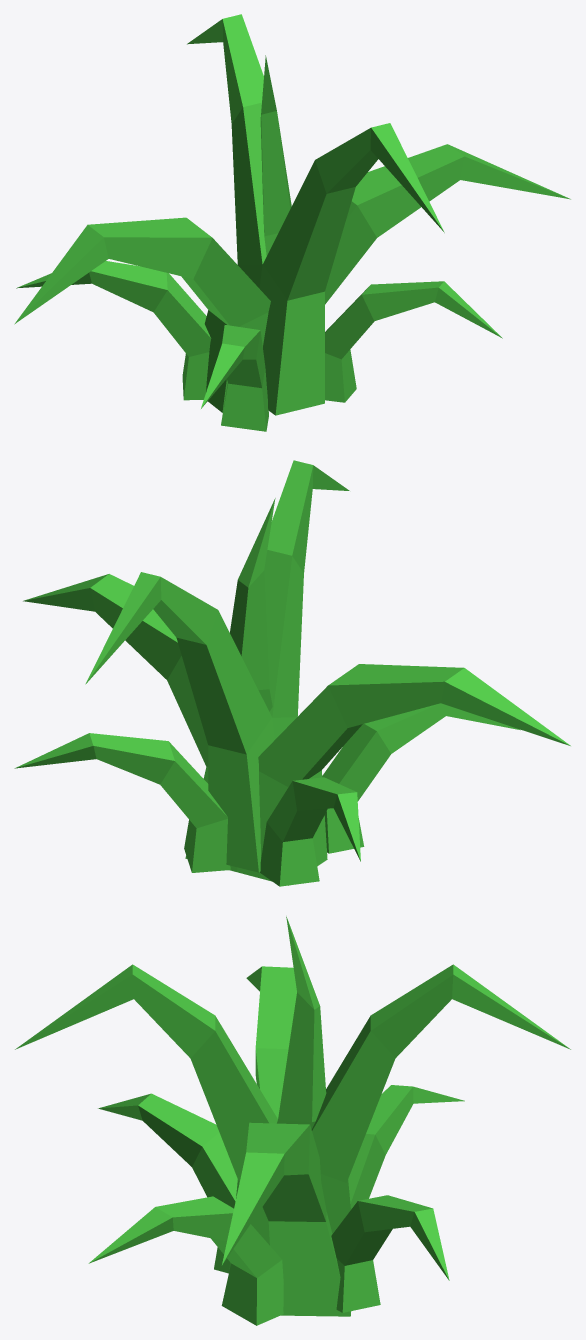
File: Grass.fbx
The picture shows the model from 3 angles, top to bottom: view 1: azimuth 30°, elevation 25°; view 2: azimuth 150°, elevation 25°; view 3: azimuth 270°, elevation 25°; orthographic projection. The views are drawn at different scales.
Visible parts, largest first — view 1: Cube.001; view 2: Cube.001; view 3: Cube.001.
Part boxes in pixels (<box>): Cube.001: <box>14,14,570,431</box>; Cube.001: <box>14,460,570,886</box>; Cube.001: <box>15,916,570,1325</box>.
Bounding box in the file's own units: 250 × 150 × 204.
